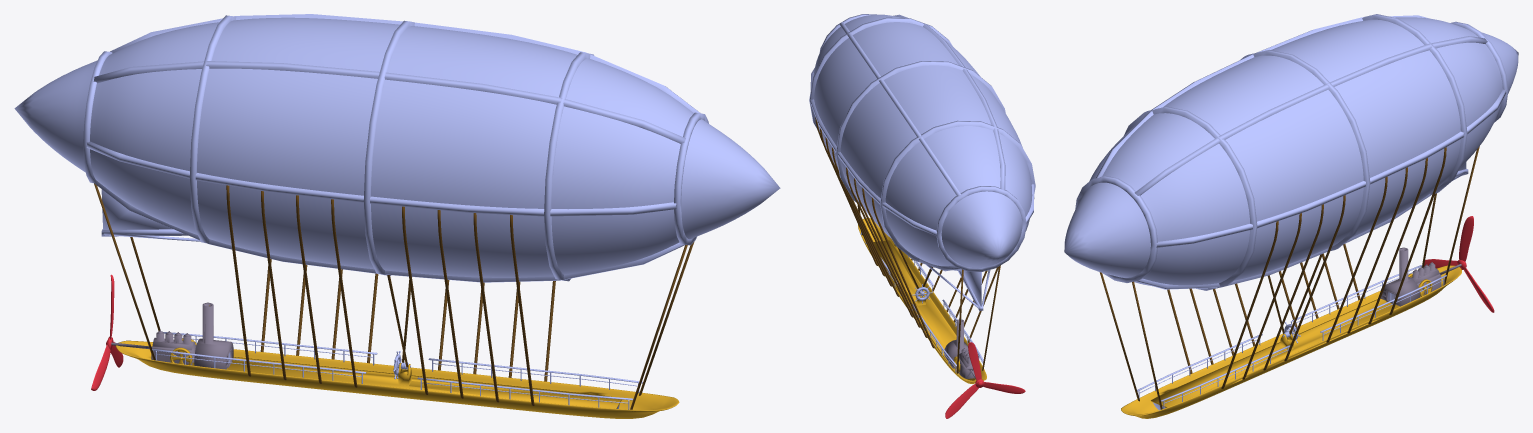
The model's file is zep4.glb.
3 renders of one model, left to right at view 1: azimuth 30°, elevation 25°; view 2: azimuth 150°, elevation 25°; view 3: azimuth 270°, elevation 25°, orthographic. The views are drawn at different scales.
Visible parts, largest first — view 1: airship, prop; view 2: airship, prop; view 3: airship, prop.
Part boxes in pixels (x1,y1,x2,y2): airship: (14,14,780,418); prop: (91,274,123,390); airship: (809,14,1035,383); prop: (945,342,1025,418); airship: (1064,14,1518,418); prop: (1424,216,1494,312).
Size of the model in its own units: 1.29 by 0.9624 by 1.23.
